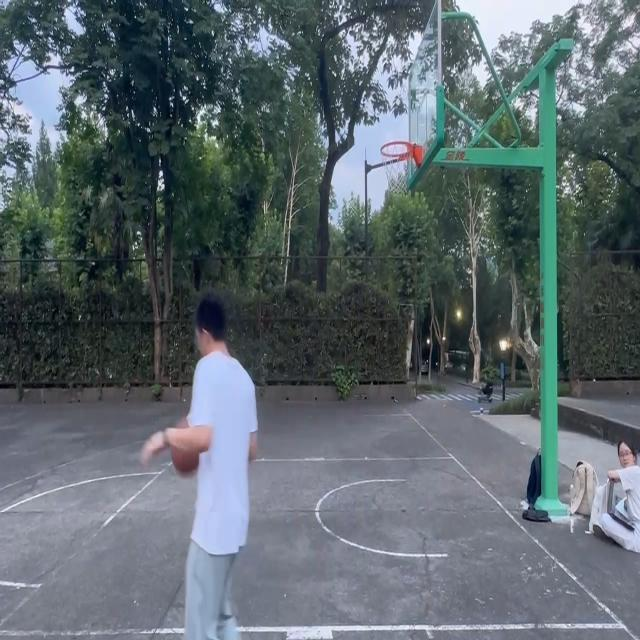basketball: (380, 143, 425, 196)
rim: (172, 420, 198, 476)
